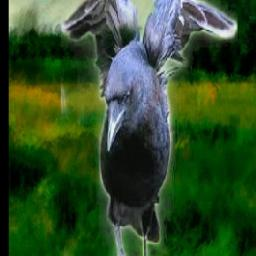Crow: (62, 0, 239, 256)
